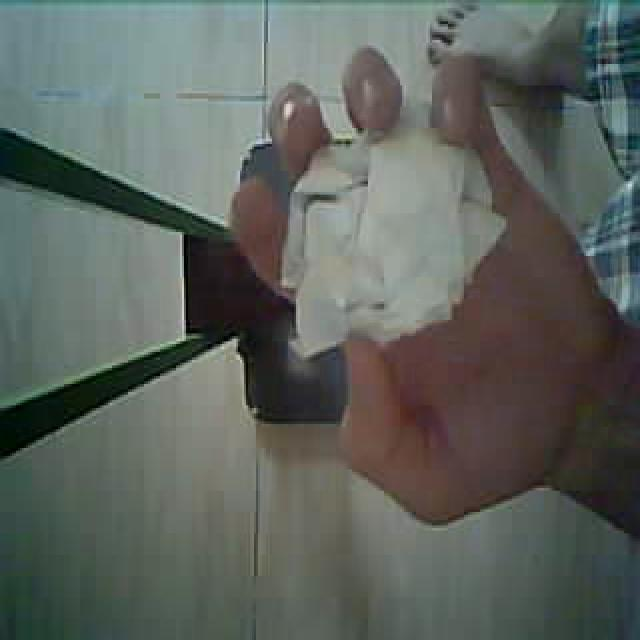Paper: (294, 130, 488, 353)
